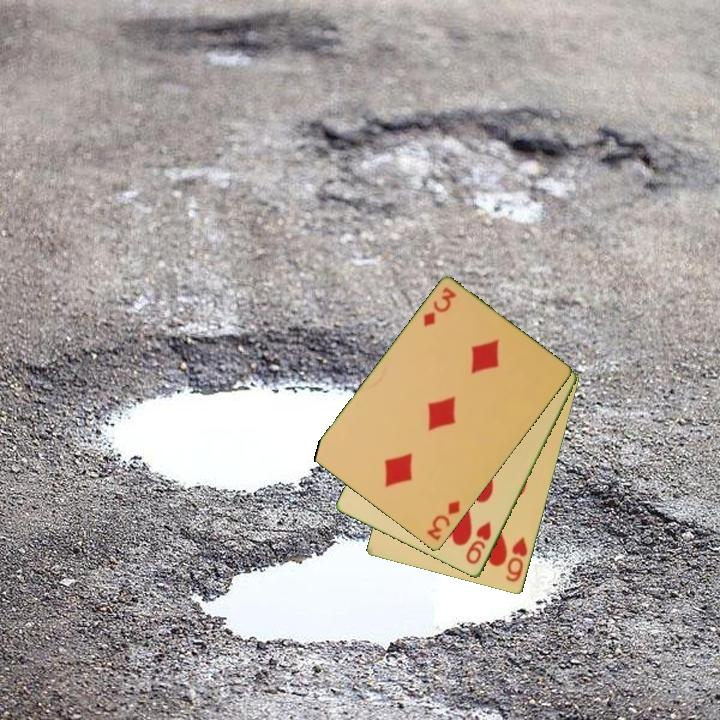3d: (423, 497, 463, 544), (420, 284, 459, 330)
6h: (502, 534, 531, 585)
9h: (462, 518, 494, 568)
